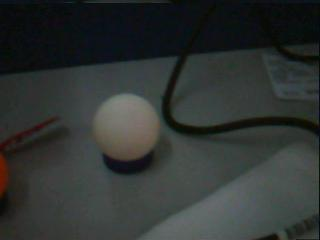oball: (1, 153, 7, 202)
